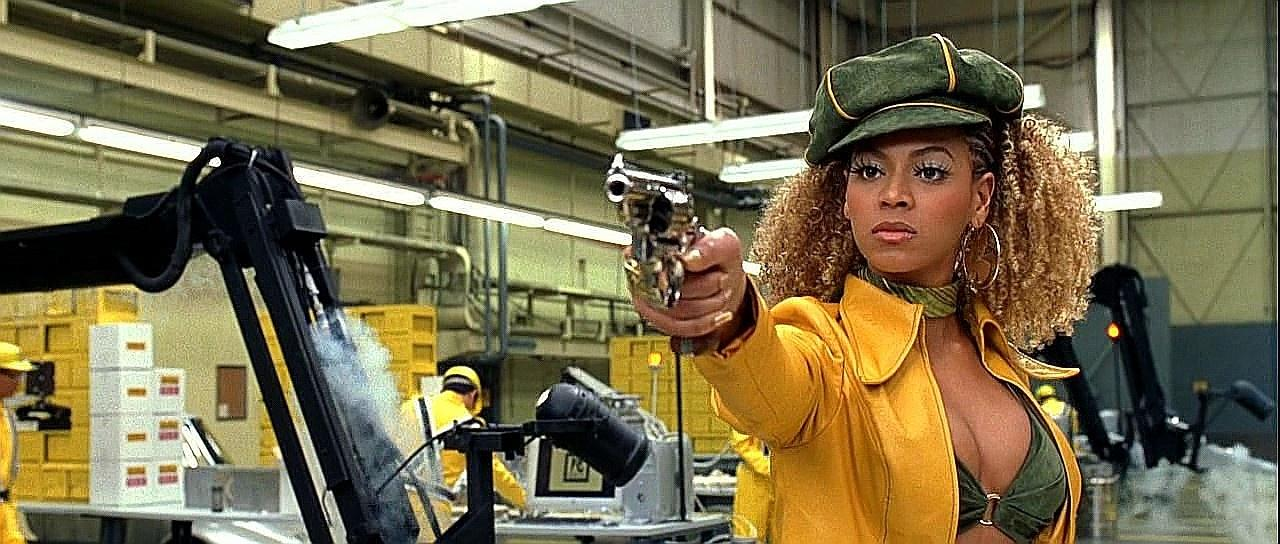gun: (602, 177, 736, 303)
